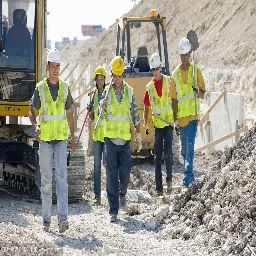helmet: (111, 58, 125, 78), (46, 51, 63, 67), (179, 37, 192, 55), (149, 53, 162, 70), (94, 66, 108, 77)
person: (31, 50, 77, 234), (102, 60, 140, 224), (172, 36, 205, 193), (147, 51, 177, 207), (89, 62, 109, 209)
vest: (39, 75, 71, 145), (105, 81, 132, 145), (145, 78, 176, 132), (174, 64, 199, 121), (92, 94, 105, 148)
